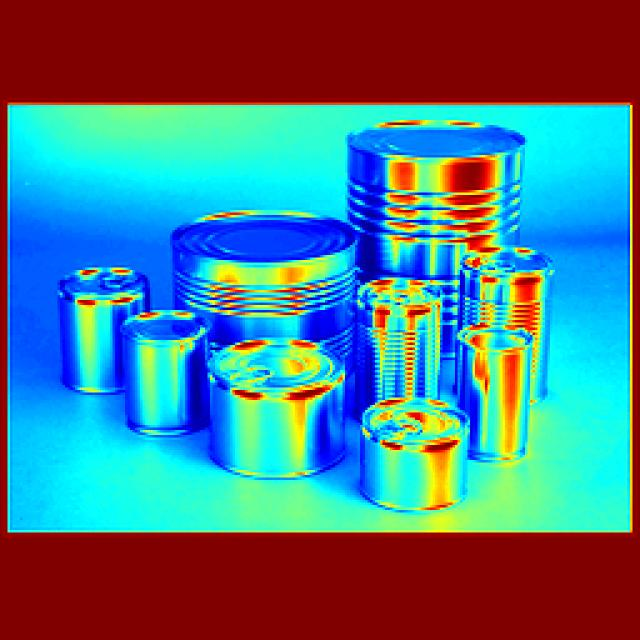Aluminium Food Cans: (347, 112, 538, 260), (165, 215, 366, 342), (443, 248, 591, 380), (341, 384, 476, 515), (208, 347, 338, 478), (446, 310, 556, 455), (65, 253, 154, 392), (116, 307, 208, 441), (344, 270, 436, 386)
